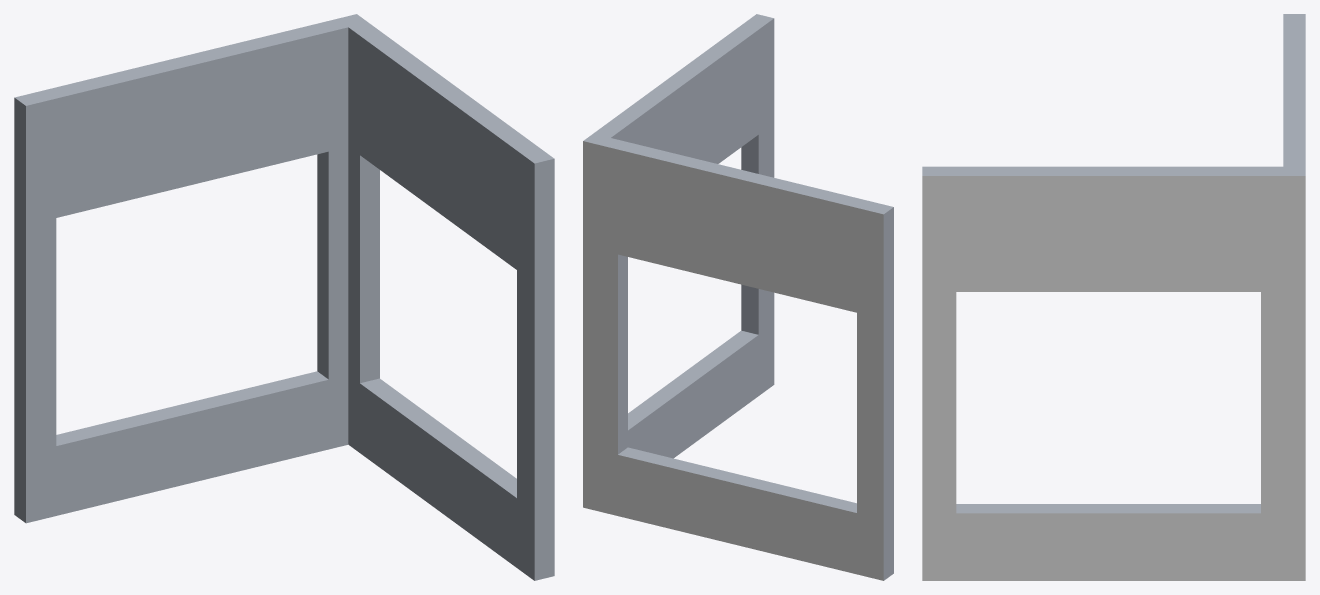
The model's file is Wall1_C5_15.fbx.
3 renders of one model, left to right at view 1: azimuth 30°, elevation 25°; view 2: azimuth 150°, elevation 25°; view 3: azimuth 270°, elevation 25°, orthographic. The views are drawn at different scales.
Parts seen in each view (by area): view 1: Wall1_C5_15; view 2: Wall1_C5_15; view 3: Wall1_C5_15.
Part boxes in pixels (x1,y1,x2,y2): Wall1_C5_15: (14,14,554,580); Wall1_C5_15: (583,14,893,580); Wall1_C5_15: (922,14,1305,580).
Size of the model in its own units: 258 by 300 by 258.
